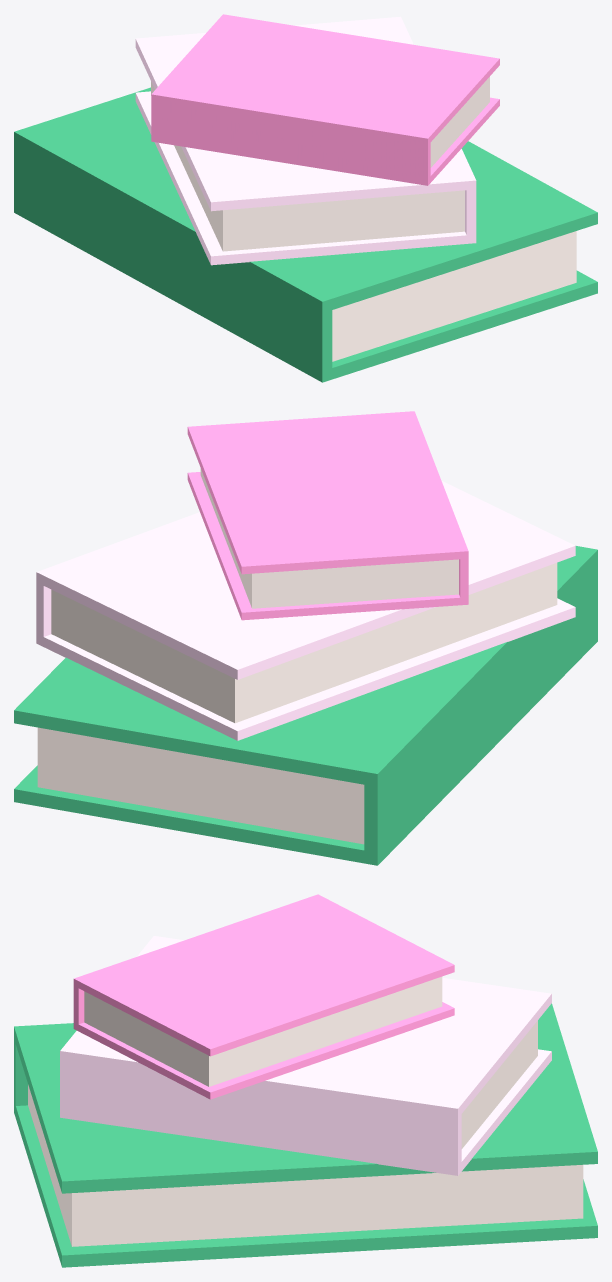
Rendered from BookPile2.glb.
The picture shows the model from 3 angles, top to bottom: view 1: azimuth 30°, elevation 25°; view 2: azimuth 150°, elevation 25°; view 3: azimuth 270°, elevation 25°; orthographic projection. The views are drawn at different scales.
Parts seen in each view (by area): view 1: BookPile2; view 2: BookPile2; view 3: BookPile2.
Part boxes in pixels (x1,y1,x2,y2): BookPile2: (14,14,597,382); BookPile2: (14,411,597,865); BookPile2: (14,894,597,1267).
Size of the model in its own units: 0.3809 by 0.1956 by 0.5088.
1 material, 1 textured.
